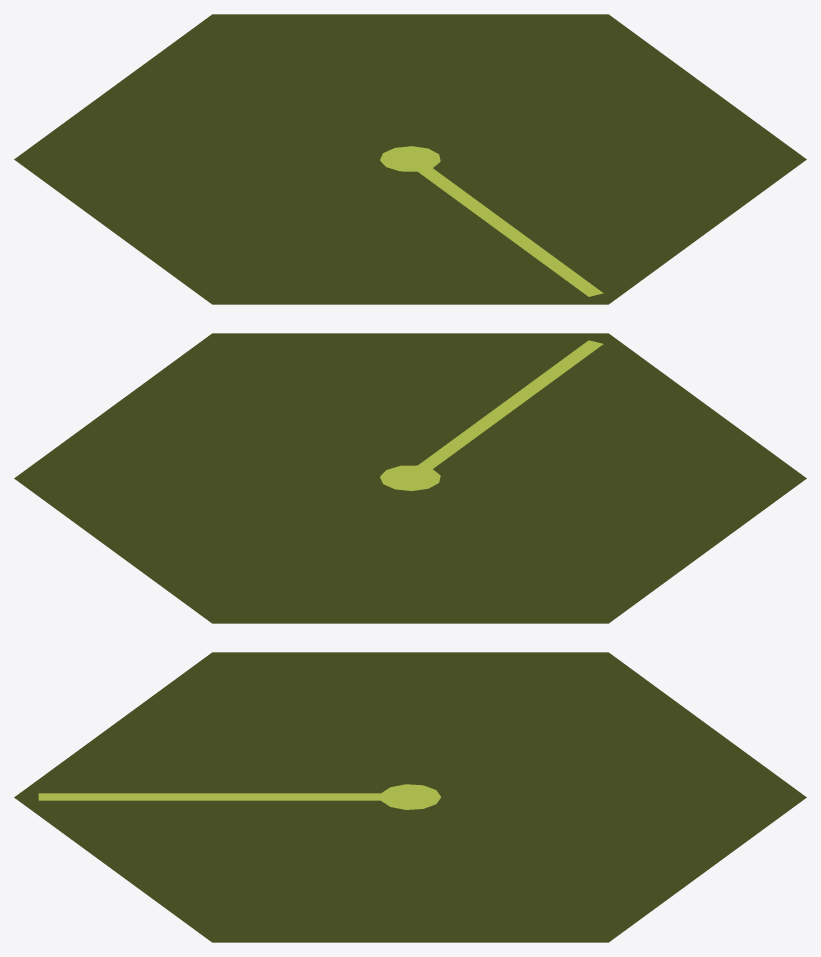
Rendered from ForestLevel.fbx.
3 renders of one model, top to bottom at view 1: azimuth 30°, elevation 25°; view 2: azimuth 150°, elevation 25°; view 3: azimuth 270°, elevation 25°, orthographic.
Parts seen in each view (by area): view 1: Cylinder, Cylinder.001; view 2: Cylinder, Cylinder.001; view 3: Cylinder, Cylinder.001.
Boxes of the visible parts, left/top/right/bottom form: Cylinder: left=14, top=14, right=806, bottom=304; Cylinder.001: left=380, top=146, right=603, bottom=296; Cylinder: left=14, top=333, right=806, bottom=623; Cylinder.001: left=380, top=340, right=603, bottom=490; Cylinder: left=14, top=652, right=806, bottom=942; Cylinder.001: left=38, top=784, right=440, bottom=809.
Size of the model in its own units: 3464 by 2 by 4000.
